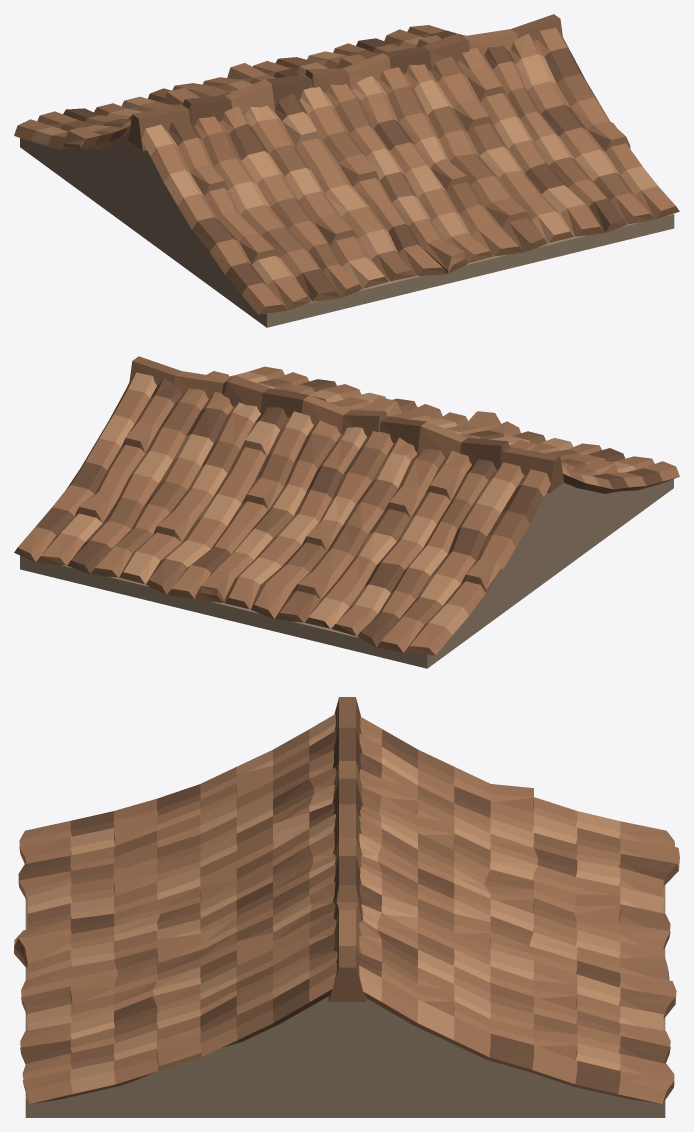
Rendered from SM_Bld_Cuba_Roof_01.glb.
3 views of the same model, one above another, from view 1: azimuth 30°, elevation 25°; view 2: azimuth 150°, elevation 25°; view 3: azimuth 270°, elevation 25° (orthographic). The views are drawn at different scales.
Visible parts, largest first — view 1: SM_Bld_Cuba_Roof_01_part00; view 2: SM_Bld_Cuba_Roof_01_part00; view 3: SM_Bld_Cuba_Roof_01_part00.
Boxes of the visible parts, <box> form: SM_Bld_Cuba_Roof_01_part00: <box>14,14,679,327</box>; SM_Bld_Cuba_Roof_01_part00: <box>14,356,679,668</box>; SM_Bld_Cuba_Roof_01_part00: <box>14,697,679,1117</box>.
Bounding box in the file's own units: 4.14 × 1.17 × 4.36.
Materials: 1 (1 with a texture image).
